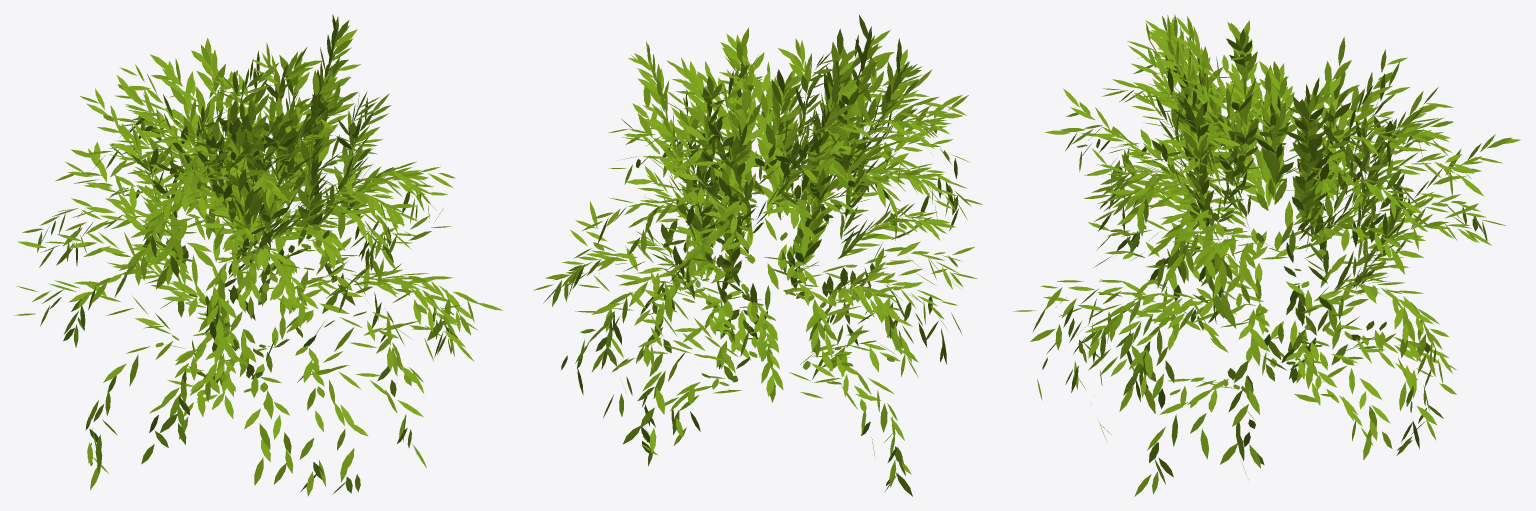
File: tree-summer-leaves-039.glb
3 renders of one model, left to right at view 1: azimuth 30°, elevation 25°; view 2: azimuth 150°, elevation 25°; view 3: azimuth 270°, elevation 25°, orthographic. The views are drawn at different scales.
Visible parts, largest first — view 1: leaves_277; view 2: leaves_277; view 3: leaves_277.
Part boxes in pixels (box(x1,y1,x2,y2)): leaves_277: box(14, 14, 503, 496); leaves_277: box(533, 15, 982, 496); leaves_277: box(1013, 14, 1520, 496).
Size of the model in its own units: 1.58 by 1.67 by 1.82.
